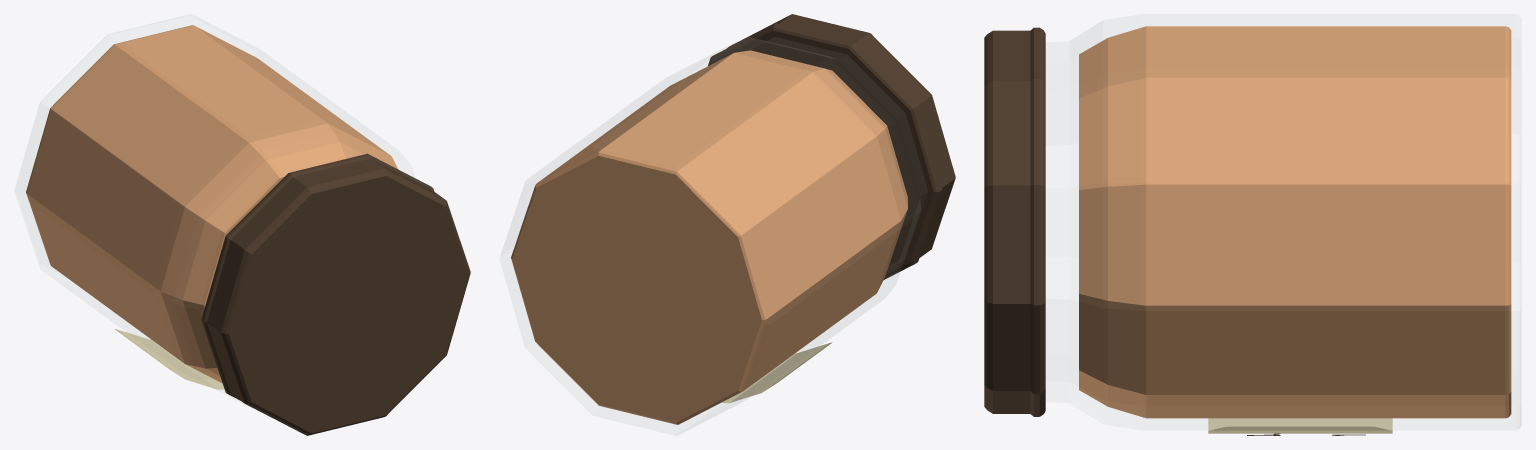
File: peanut_butter_jar.glb
3 views of the same model, side by side, from view 1: azimuth 30°, elevation 25°; view 2: azimuth 150°, elevation 25°; view 3: azimuth 270°, elevation 25° (orthographic). The views are drawn at different scales.
Visible parts, largest first — view 1: peanut_butter_jar; view 2: peanut_butter_jar; view 3: peanut_butter_jar.
Boxes of the visible parts, bbox=[...] form: peanut_butter_jar: bbox=[15, 14, 470, 435]; peanut_butter_jar: bbox=[500, 14, 955, 435]; peanut_butter_jar: bbox=[984, 14, 1520, 435].
Bounding box in the file's own units: 0.082 × 0.0807 × 0.105.
